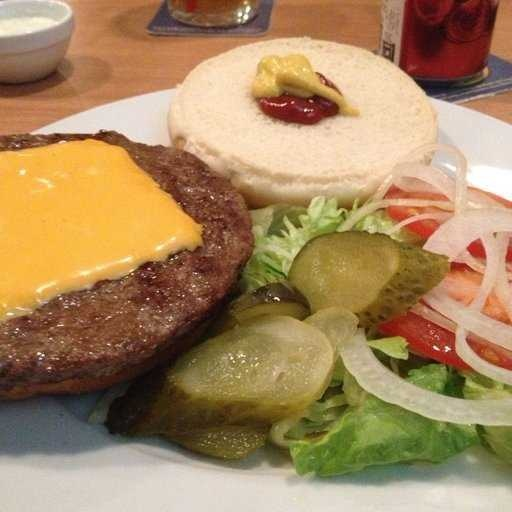hamburger: (1, 36, 422, 437)
